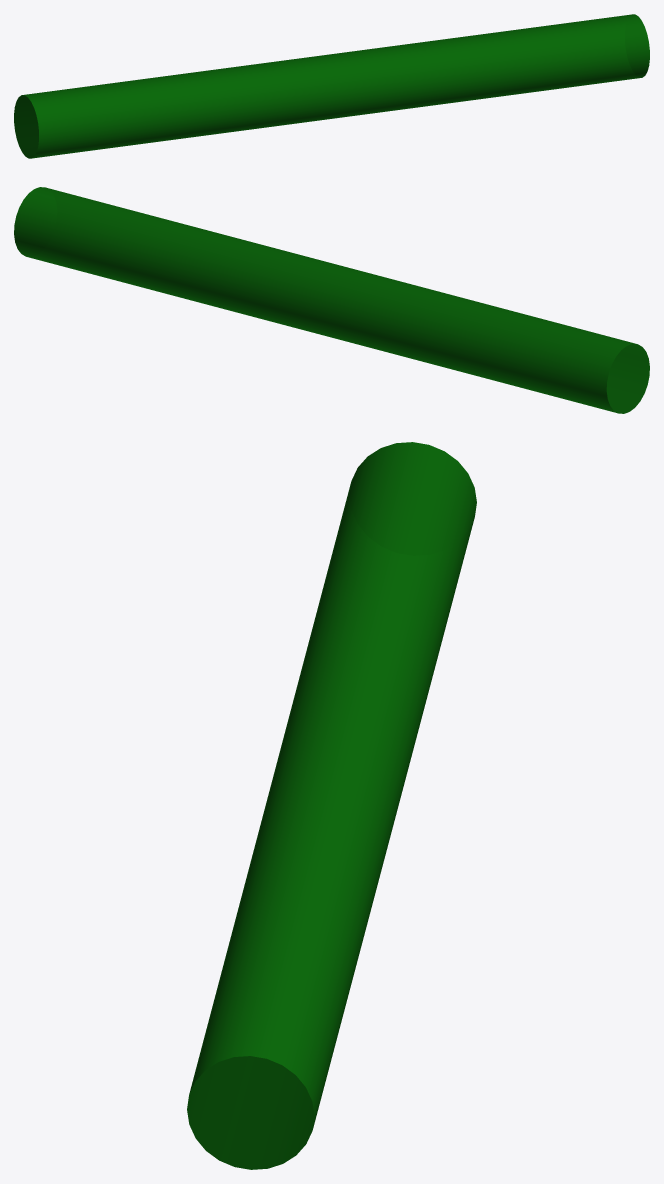
File: Event_127732675_jet_6.fbx
3 renders of one model, top to bottom at view 1: azimuth 30°, elevation 25°; view 2: azimuth 150°, elevation 25°; view 3: azimuth 270°, elevation 25°, orthographic. The views are drawn at different scales.
Visible parts, largest first — view 1: Model; view 2: Model; view 3: Model.
Part boxes in pixels (x1,y1,x2,y2): Model: (14, 14, 649, 158); Model: (14, 187, 649, 413); Model: (187, 442, 476, 1169).
Size of the model in its own units: 0.4148 by 0.0596 by 0.0902.
